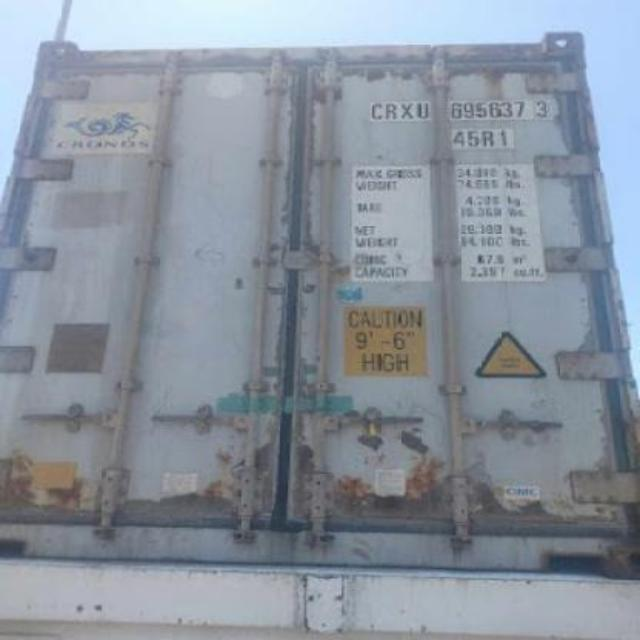3: (502, 100, 514, 120), (536, 100, 550, 116)
5: (476, 102, 488, 118)
6: (450, 102, 462, 120), (490, 102, 502, 118)
7: (514, 100, 526, 120)
9: (464, 102, 476, 118)
C: (371, 102, 384, 122)
R: (384, 102, 398, 120)
U: (416, 102, 429, 120)
X: (400, 102, 416, 122)
